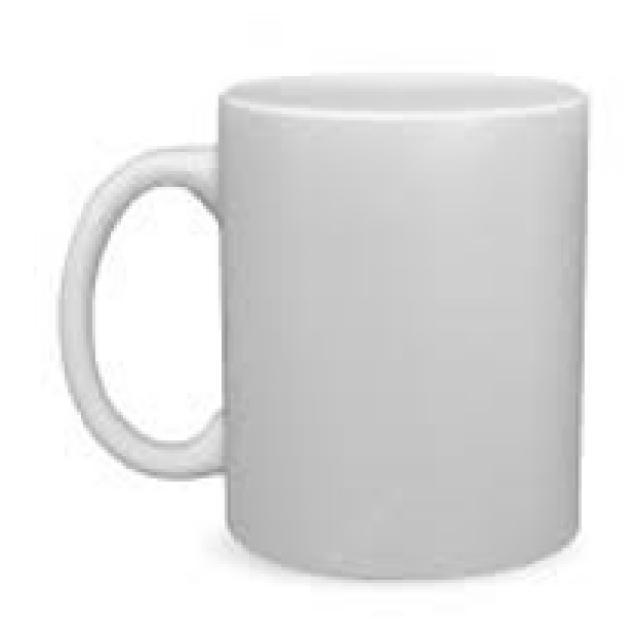taza: (50, 54, 598, 586)
